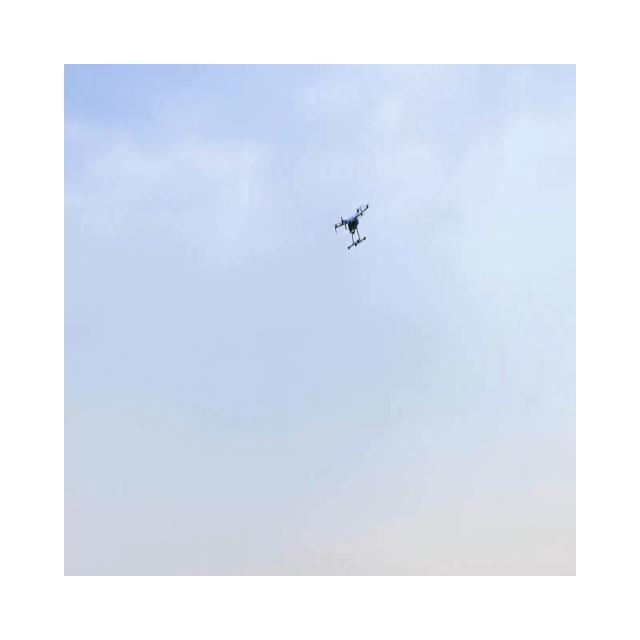drone: (334, 202, 369, 250)
